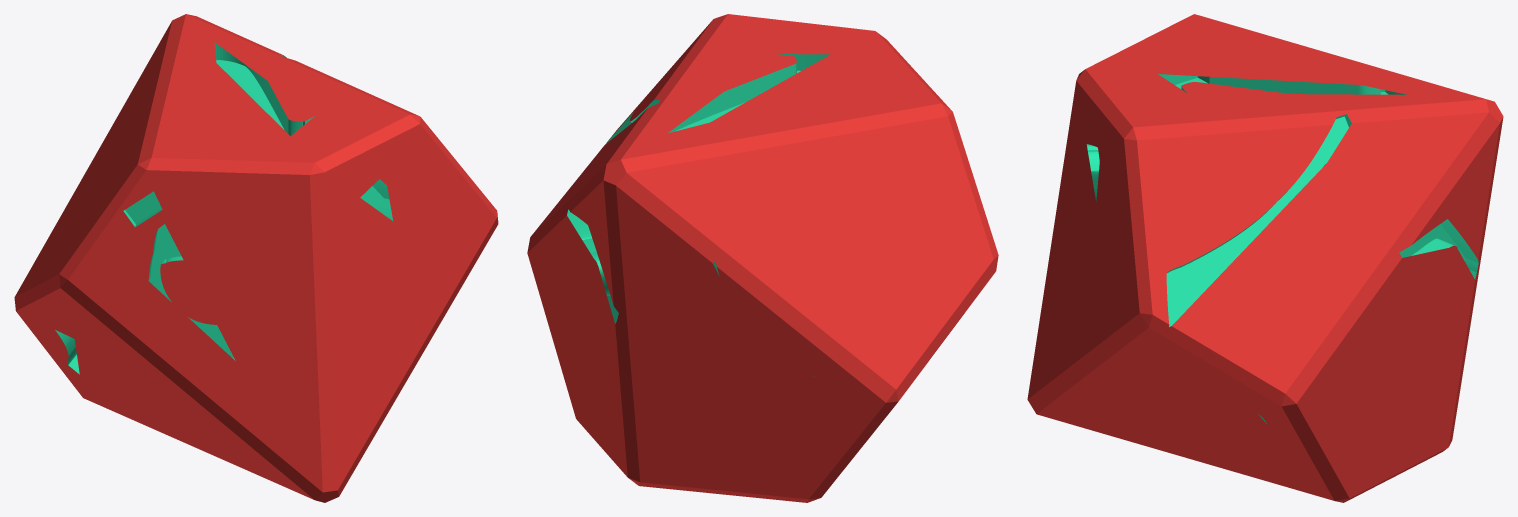
The picture shows the model from 3 angles, left to right: view 1: azimuth 30°, elevation 25°; view 2: azimuth 150°, elevation 25°; view 3: azimuth 270°, elevation 25°; orthographic projection. The views are drawn at different scales.
Visible parts, largest first — view 1: Cone.001; view 2: Cone.001; view 3: Cone.001.
Part boxes in pixels (x1,y1,x2,y2): Cone.001: [14, 14, 498, 502]; Cone.001: [527, 14, 998, 502]; Cone.001: [1027, 14, 1503, 502].
Bounding box in the file's own units: 189 × 142 × 172.
